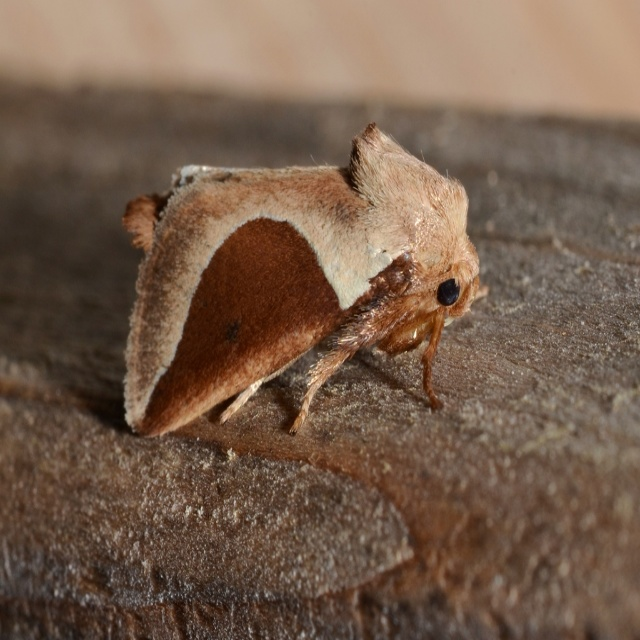Moths and butterflies: (123, 119, 490, 438)
